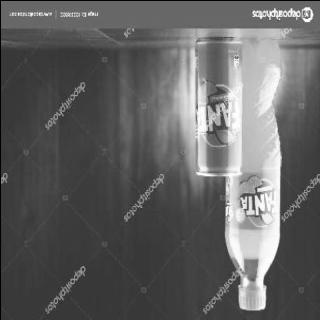alumunium_can: (192, 30, 244, 178)
objects: (222, 34, 282, 314)
